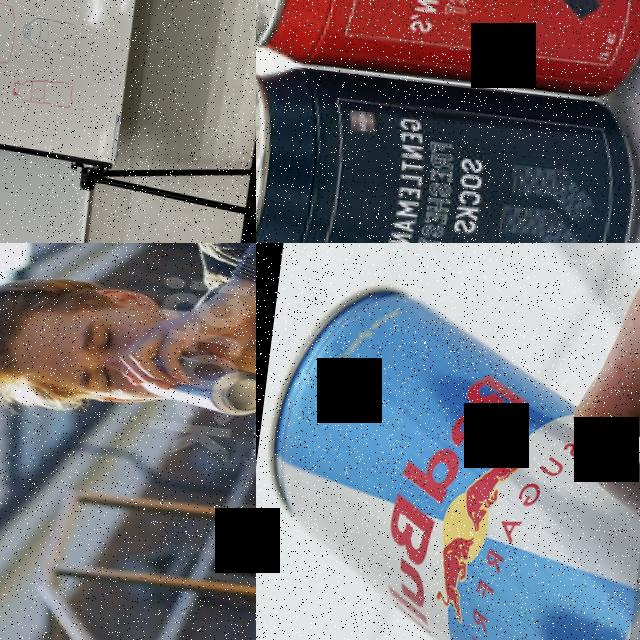can: (256, 271, 640, 640), (256, 55, 640, 243), (256, 0, 640, 107), (131, 349, 256, 420)
